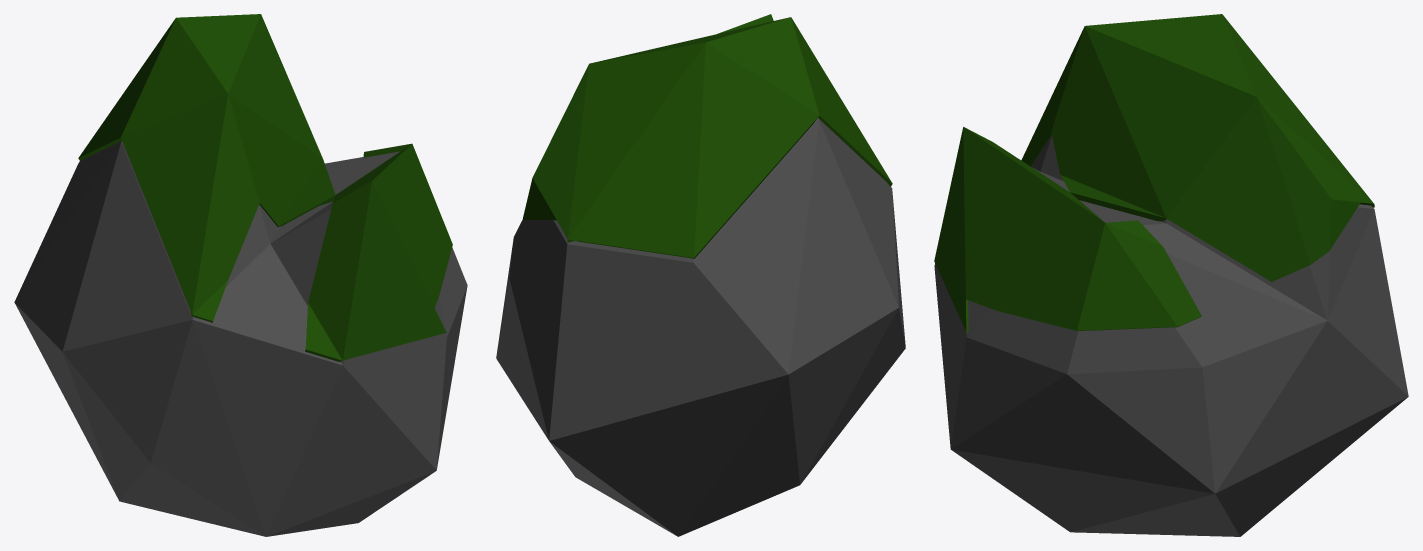
Rendered from Sea_Rock2.fbx.
3 views of the same model, side by side, from view 1: azimuth 30°, elevation 25°; view 2: azimuth 150°, elevation 25°; view 3: azimuth 270°, elevation 25° (orthographic). The views are drawn at different scales.
Visible parts, largest first — view 1: Icosphere.002; view 2: Icosphere.002; view 3: Icosphere.002.
Boxes of the visible parts, left/top/right/bottom form: Icosphere.002: left=14, top=14, right=467, bottom=536; Icosphere.002: left=496, top=14, right=905, bottom=536; Icosphere.002: left=934, top=14, right=1408, bottom=536.
Size of the model in its own units: 805 by 1031 by 896.
